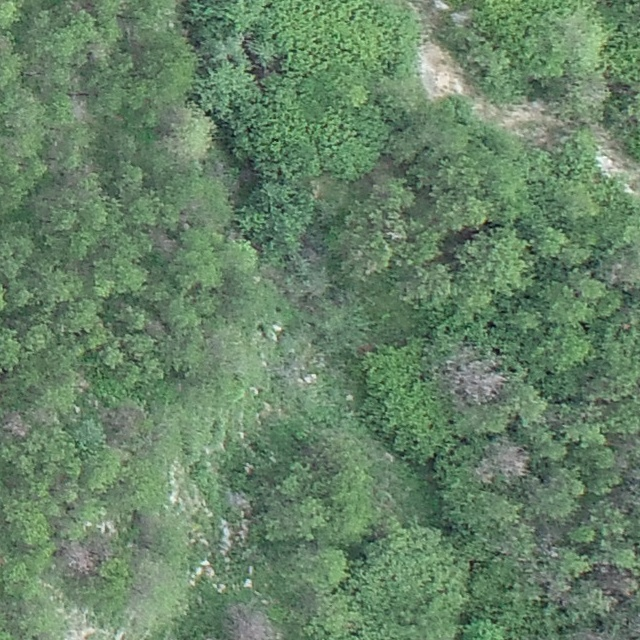unhealthy: (444, 358, 507, 405), (477, 439, 531, 481), (223, 603, 281, 640), (58, 539, 98, 576), (103, 403, 145, 437), (605, 256, 639, 291), (147, 226, 177, 257), (1, 409, 31, 439), (223, 490, 252, 514), (69, 95, 90, 124), (567, 628, 608, 639)
